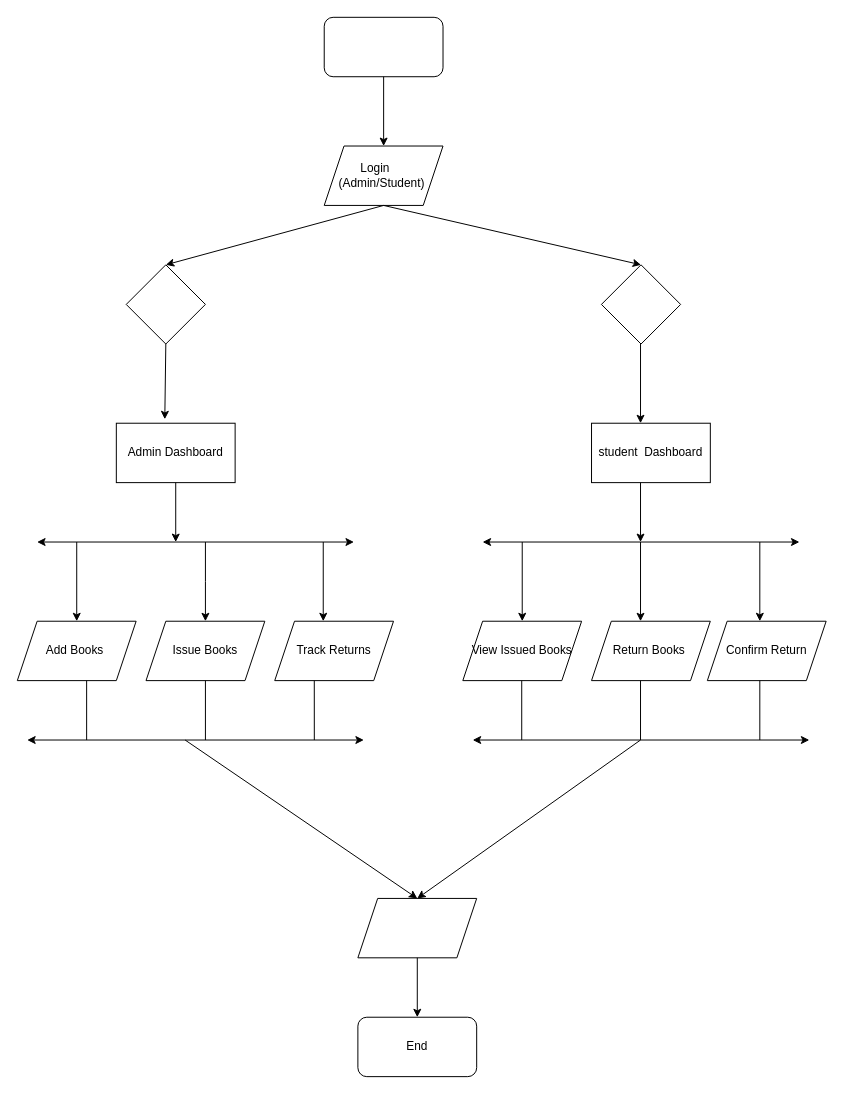
The diagram is 843 pixels wide and 1094 high, and some of its shapes have lost their labels. Here are the shapes that lost their labels. From the top down, the centre of each, then its label:
(x=383, y=46): Start
(x=165, y=304): Admin Login
(x=640, y=304): Student Login
(x=417, y=927): Logout
